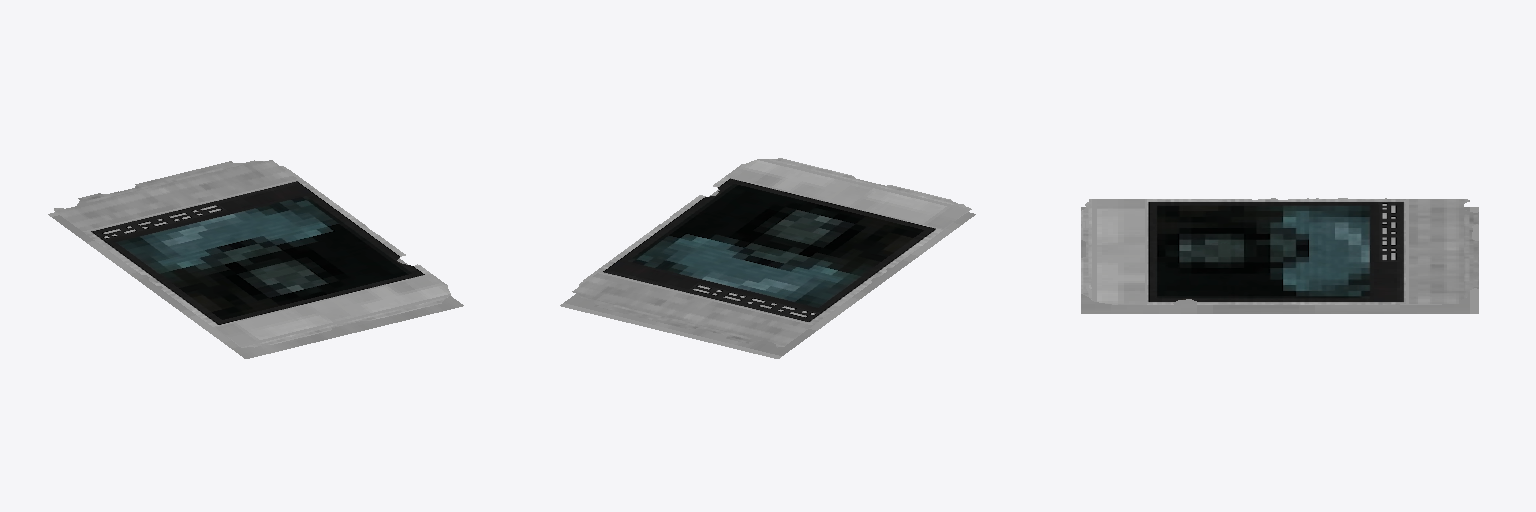
3 views of the same model, side by side, from view 1: azimuth 30°, elevation 25°; view 2: azimuth 150°, elevation 25°; view 3: azimuth 270°, elevation 25° (orthographic).
Visible parts, largest first — view 1: cube; view 2: cube; view 3: cube.
Boxes of the visible parts, x1,y1,x2,y2 form: cube: [48, 160, 463, 358]; cube: [560, 158, 975, 358]; cube: [1081, 198, 1478, 313].
Bounding box in the file's own units: 0.4375 × 0.0156 × 0.6875.
1 materials, 1 textured.